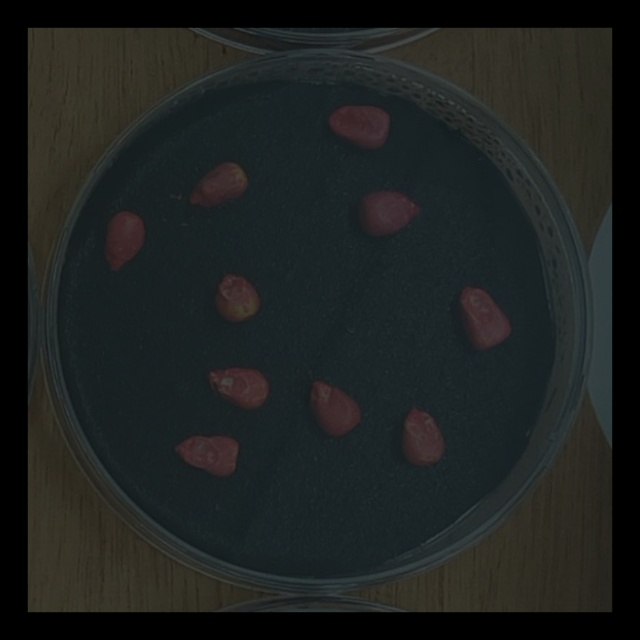Zea mays: (451, 279, 519, 358), (320, 98, 395, 158), (303, 372, 366, 443), (167, 429, 245, 486), (352, 183, 426, 243), (180, 155, 251, 217), (200, 360, 276, 417), (392, 402, 449, 476), (96, 206, 151, 280), (207, 267, 267, 328)
